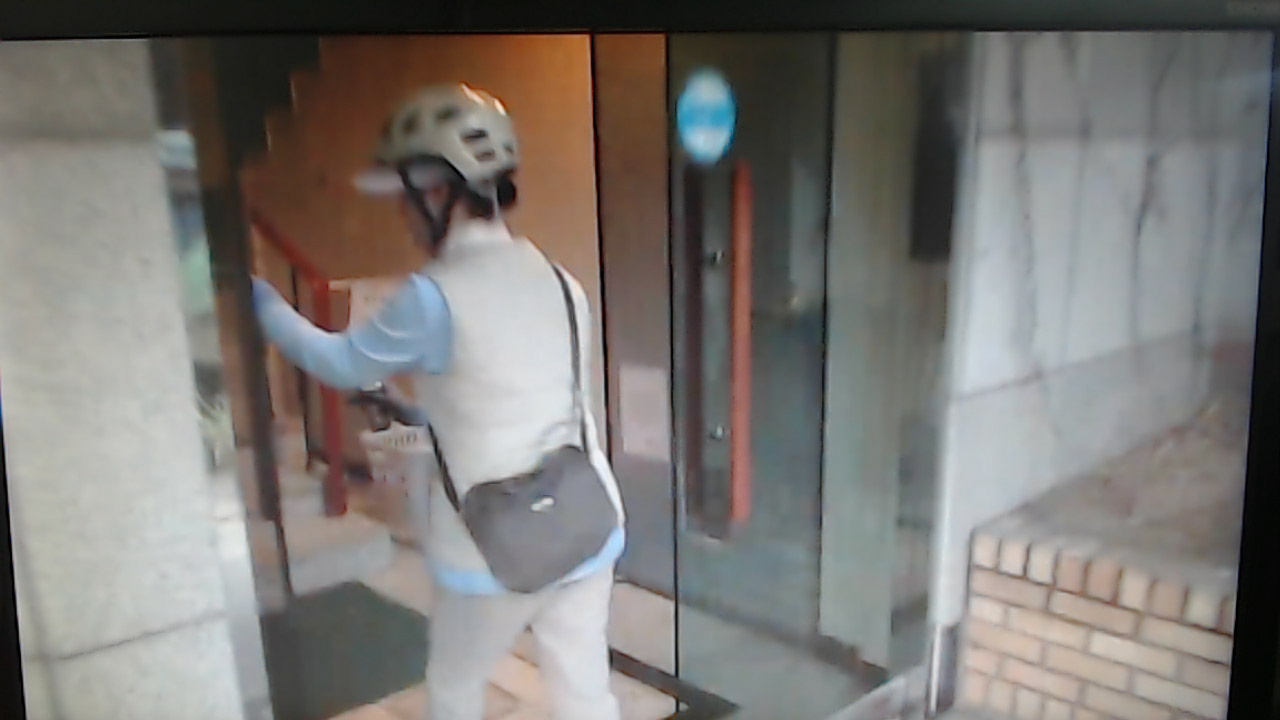Yakurut: (240, 68, 659, 720)
